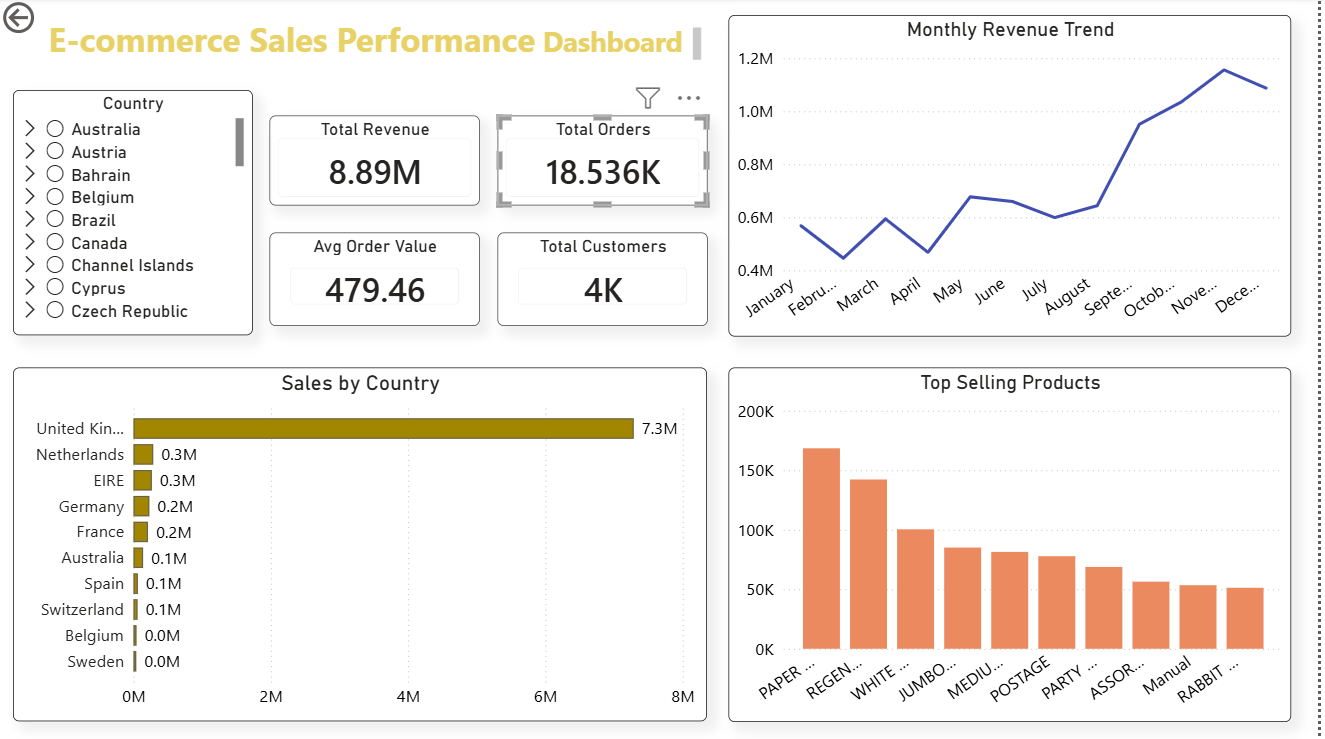

The dashboard page shown, as its layout file describes it:
{"tool":"powerbi","page":{"name":"Page 1","canvas":[1280,720],"ordinal":0},"visuals":[{"type":"cardVisual","title":"Total Revenue","fields":{"Data":["Sum(cleaned_data.TotalPrice)"]},"box":[263.9,115,204,87.4],"z":0},{"type":"cardVisual","title":"Total Orders","fields":{"Data":["Count(cleaned_data.InvoiceNo)"]},"box":[484.1,115,204,87.4],"z":1000},{"type":"barChart","title":"Sales by Country","fields":{"Category":["cleaned_data.Country"],"Y":["Sum(cleaned_data.TotalPrice)"]},"box":[14.6,359.5,673.6,343.3],"z":2000},{"type":"lineChart","title":"Monthly Revenue Trend","fields":{"Category":["cleaned_data.InvoiceDate.Variation.Date Hierarchy.Month"],"Y":["Sum(cleaned_data.TotalPrice)"]},"box":[708.7,17,546.1,311.8],"z":3000},{"type":"columnChart","title":"Top Selling Products","fields":{"Category":["cleaned_data.Description"],"Y":["Sum(cleaned_data.TotalPrice)"]},"box":[708.7,359.1,546.1,343.9],"z":4000},{"type":"textbox","box":[35.6,19.4,652.5,47],"z":5000},{"type":"listSlicer","fields":{"Values":["cleaned_data.Country","cleaned_data.InvoiceDate.Variation.Date Hierarchy.Month"]},"box":[15.1,90.7,232.4,238.1],"z":6000},{"type":"actionButton","box":[0,0,100,40],"z":7000},{"type":"cardVisual","title":"Avg Order Value","fields":{"Data":["cleaned_data.Avg Order Value"]},"box":[263.9,228.3,204,90.7],"z":7001},{"type":"cardVisual","title":"Total Customers","fields":{"Data":["cleaned_data.Total Customers"]},"box":[484.1,228.3,204,90.7],"z":7002}]}

Visuals, with their boxes in screenshot pixels (x1, y1, x2, y2), scaled from the page's 1280x720 canvas onto the 1325x739 screenshot:
"Total Revenue" cardVisual: 273,118,484,208
"Total Orders" cardVisual: 501,118,712,208
"Sales by Country" barChart: 15,369,712,721
"Monthly Revenue Trend" lineChart: 734,17,1299,337
"Top Selling Products" columnChart: 734,369,1299,722
textbox: 37,20,712,68
listSlicer - cleaned_data.Country x cleaned_data.InvoiceDate.Variation.Date Hierarchy.Month: 16,93,256,337
actionButton: 0,0,104,41
"Avg Order Value" cardVisual: 273,234,484,327
"Total Customers" cardVisual: 501,234,712,327
